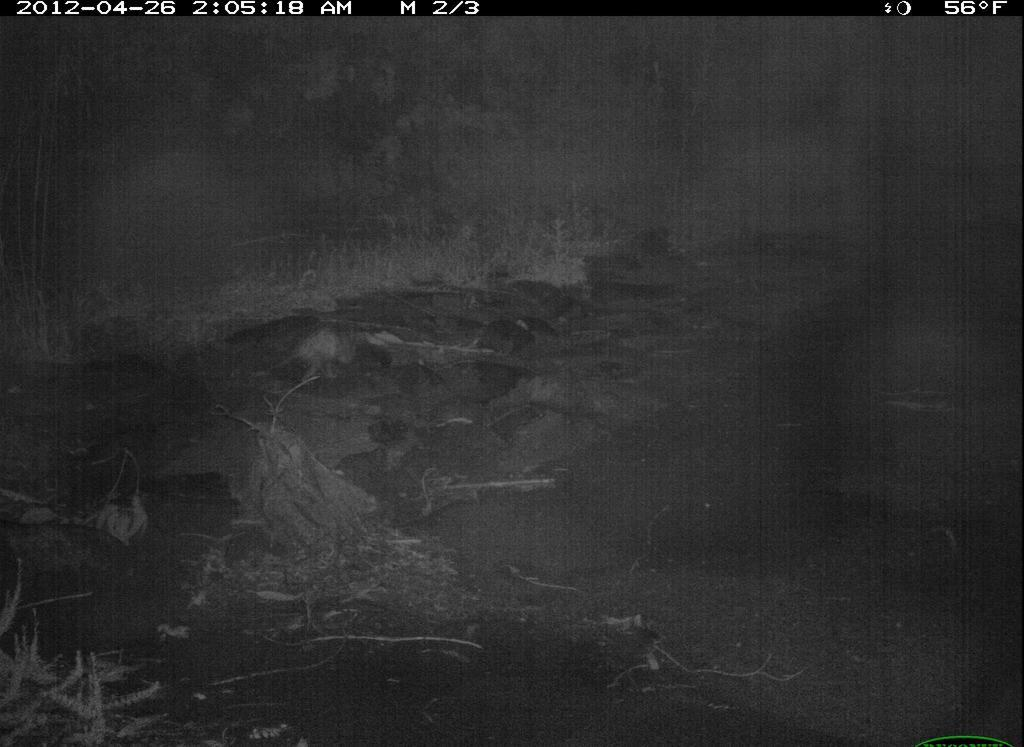opossum: (256, 319, 372, 389)
